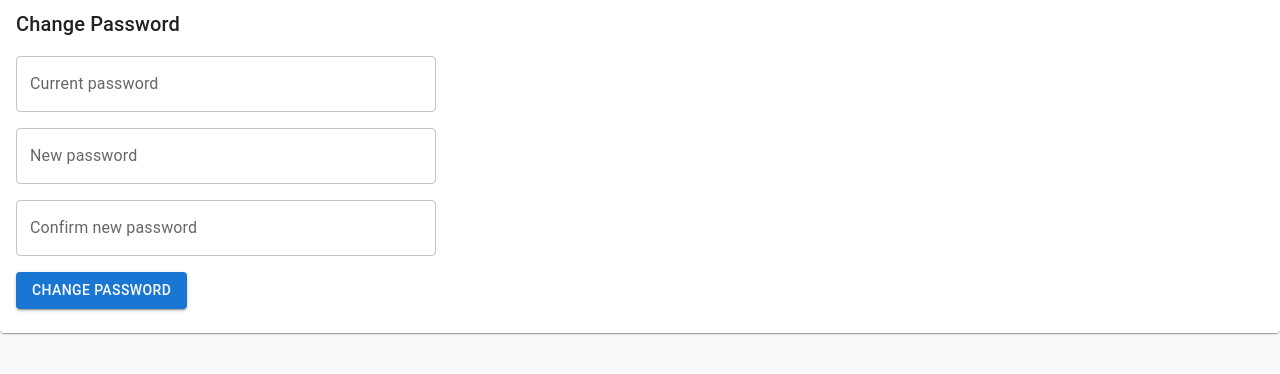
Test case: ChangePasswordCard › blocks mismatched new passwords
The width and height of the screenshot is (1280, 374).
In the password field labelled "Current password": [226, 84] box [16,56,436,112], type "oldpass12"
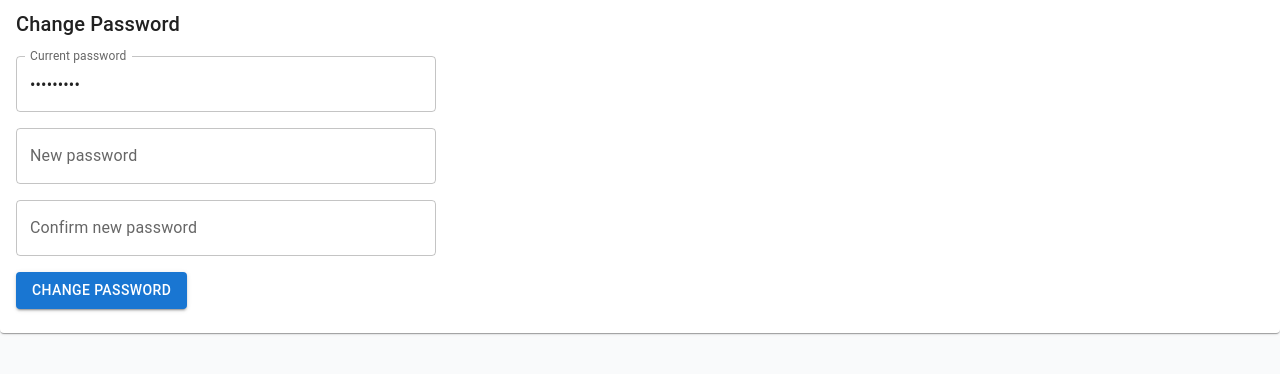
In the password field labelled "New password": [226, 156] box [16,128,436,184], type "newpass12"
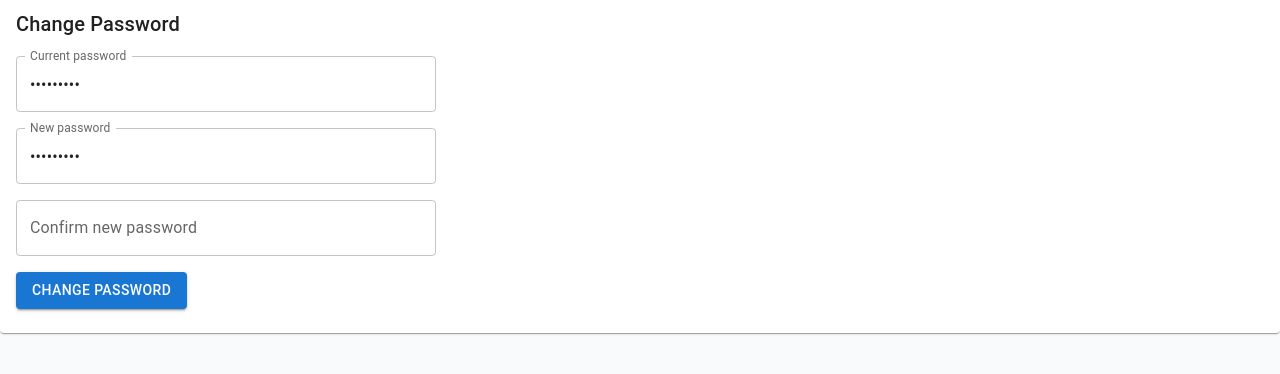
In the password field labelled "Confirm new password": [226, 228] box [16,200,436,256], type "different12"
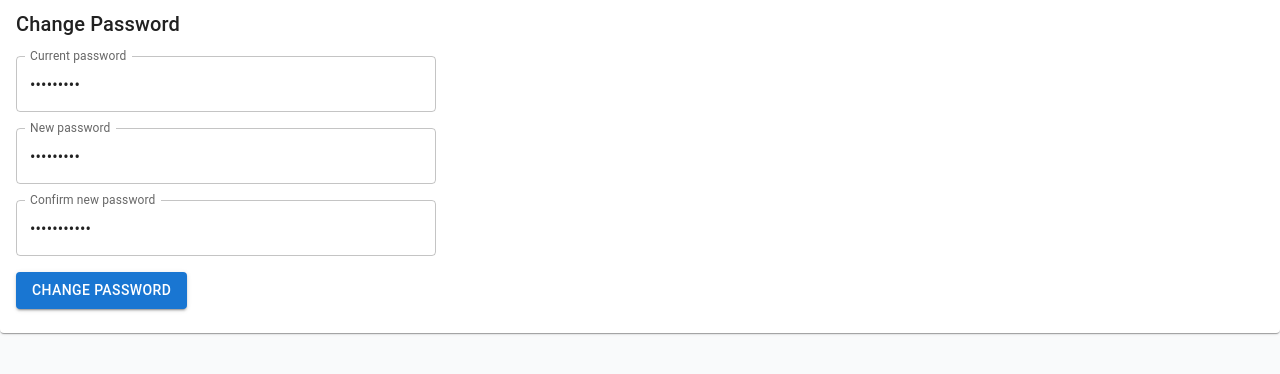
Click the button "Change Password": [102, 290] box [16,272,187,308]
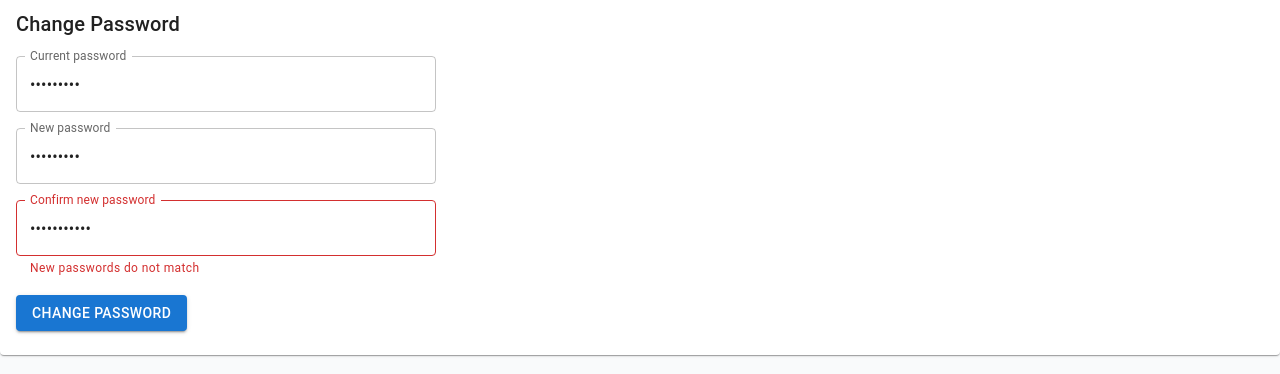
Check: the text "New passwords do not match" is shown, box [30,261,200,275]
